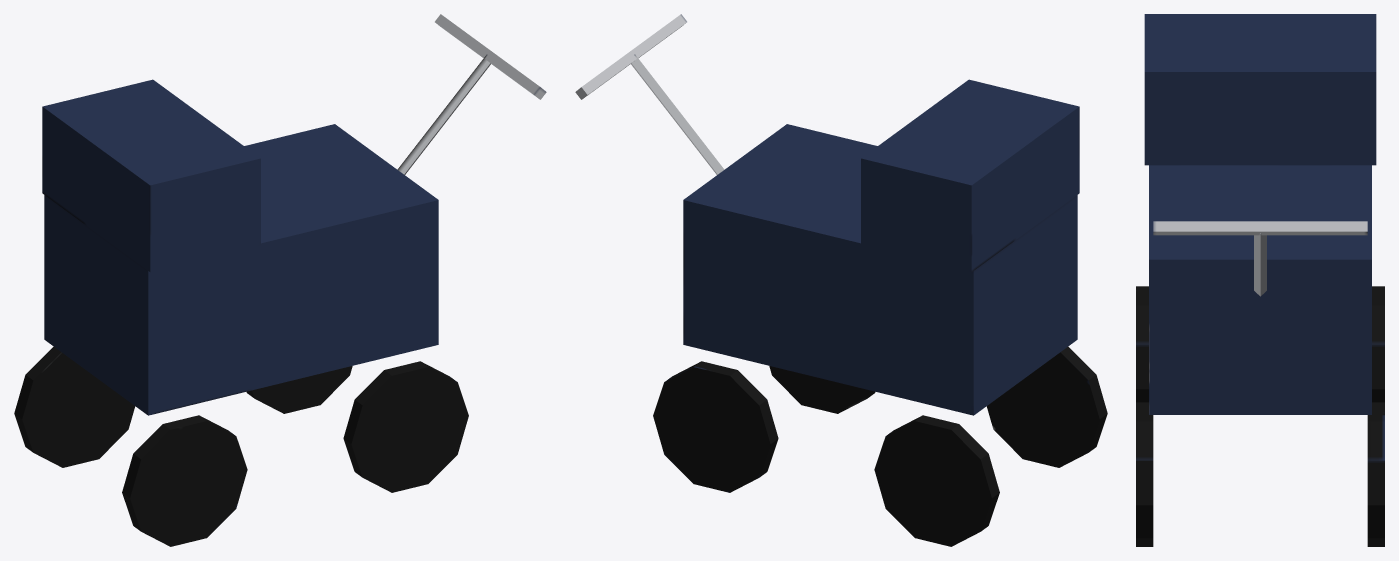
File: kocarek_99914b93.glb
3 renders of one model, left to right at view 1: azimuth 30°, elevation 25°; view 2: azimuth 150°, elevation 25°; view 3: azimuth 270°, elevation 25°, orthographic. The views are drawn at different scales.
Visible parts, largest first — view 1: dum; view 2: dum; view 3: dum.
Part boxes in pixels (left/top/right/bottom): dum: left=14, top=14, right=546, bottom=546; dum: left=575, top=14, right=1107, bottom=546; dum: left=1136, top=14, right=1384, bottom=546.
Size of the model in its own units: 1.22 by 0.9992 by 0.5785.
Materials: 1 (1 with a texture image).
